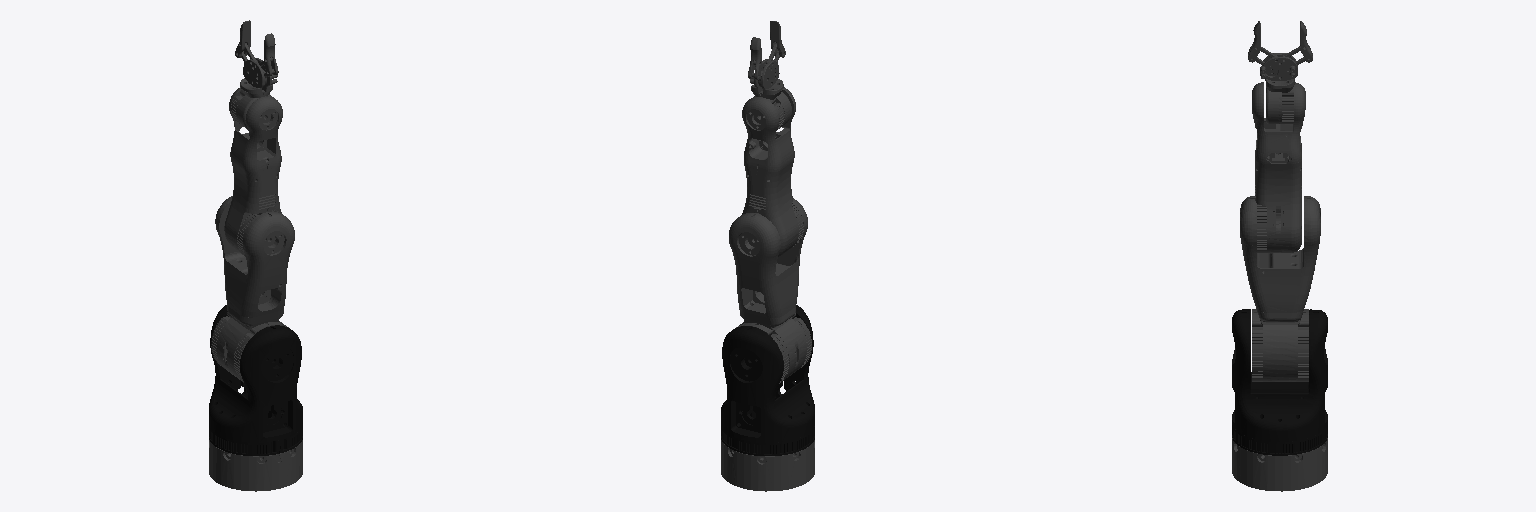
robot.urdf — full_urdf:
<?xml version="1.0" encoding="utf-8"?>
<!-- This URDF was automatically created by SolidWorks to URDF Exporter! Originally created by [author] ([email redacted]) 
     Commit Version: 1.6.0-1-g15f4949  Build Version: 1.6.7594.29634
     For more information, please see http://wiki.ros.org/sw_urdf_exporter -->
<robot
  name="full_urdf">
  <link
    name="link1">
    <inertial>
      <origin
        xyz="4.4410586445387E-05 1.45177986581313E-05 0.037113179191386"
        rpy="0 0 0" />
      <mass
        value="0.635779498961267" />
      <inertia
        ixx="0.00151123987386836"
        ixy="1.1011358416876E-09"
        ixz="1.32447037777926E-06"
        iyy="0.00151196559273963"
        iyz="-1.56524080812258E-07"
        izz="0.00261737665265417" />
    </inertial>
    <visual>
      <origin
        xyz="0 0 0"
        rpy="0 0 0" />
      <geometry>
        <mesh
          filename="package://tg_rviz/link1.STL" />
      </geometry>
      <material
        name="">
        <color
          rgba="0.294117647058824 0.294117647058824 0.294117647058824 1" />
      </material>
    </visual>
    <collision>
      <origin
        xyz="0 0 0"
        rpy="0 0 0" />
      <geometry>
        <mesh
          filename="package://tg_rviz/link1.STL" />
      </geometry>
    </collision>
  </link>
  <link
    name="link2">
    <inertial>
      <origin
        xyz="7.95491834643947E-05 9.19921252534872E-05 0.0829570557972189"
        rpy="0 0 0" />
      <mass
        value="1.60032877977738" />
      <inertia
        ixx="0.00838854576696447"
        ixy="-3.8941138011219E-06"
        ixz="-3.49984649445926E-06"
        iyy="0.0068511133901636"
        iyz="-4.37926052663677E-07"
        izz="0.00630839131304142" />
    </inertial>
    <visual>
      <origin
        xyz="0 0 0"
        rpy="0 0 0" />
      <geometry>
        <mesh
          filename="package://tg_rviz/link2.STL" />
      </geometry>
      <material
        name="">
        <color
          rgba="0.0980392156862745 0.0980392156862745 0.0980392156862745 1" />
      </material>
    </visual>
    <collision>
      <origin
        xyz="0 0 0"
        rpy="0 0 0" />
      <geometry>
        <mesh
          filename="package://tg_rviz/link2.STL" />
      </geometry>
    </collision>
  </link>
  <joint
    name="joint1"
    type="continuous">
    <origin
      xyz="7.7842E-05 0 0.065"
      rpy="0 0 0" />
    <parent
      link="link1" />
    <child
      link="link2" />
    <axis
      xyz="-0.0011976 0 -1" />
  </joint>
  <link
    name="link3">
    <inertial>
      <origin
        xyz="-0.000376995105643763 0.00114200217520197 0.0757659063786574"
        rpy="0 0 0" />
      <mass
        value="1.79175976433997" />
      <inertia
        ixx="0.00493022759174285"
        ixy="6.21557128134879E-07"
        ixz="1.3870513938658E-05"
        iyy="0.00483872598023994"
        iyz="9.58679544162898E-06"
        izz="0.0028490373546818" />
    </inertial>
    <visual>
      <origin
        xyz="0 0 0"
        rpy="0 0 0" />
      <geometry>
        <mesh
          filename="package://tg_rviz/link3.STL" />
      </geometry>
      <material
        name="">
        <color
          rgba="0.294117647058824 0.294117647058824 0.294117647058824 1" />
      </material>
    </visual>
    <collision>
      <origin
        xyz="0 0 0"
        rpy="0 0 0" />
      <geometry>
        <mesh
          filename="package://tg_rviz/link3.STL" />
      </geometry>
    </collision>
  </link>
  <joint
    name="joint2"
    type="continuous">
    <origin
      xyz="0.0001982 0 0.1655"
      rpy="0 0 0" />
    <parent
      link="link2" />
    <child
      link="link3" />
    <axis
      xyz="-0.002626 -1 0" />
  </joint>
  <link
    name="link4">
    <inertial>
      <origin
        xyz="-7.18441758113808E-05 -0.00157534217819362 0.0379704140353342"
        rpy="0 0 0" />
      <mass
        value="0.656516302979665" />
      <inertia
        ixx="0.00192392283265257"
        ixy="5.9133568135509E-08"
        ixz="-1.12401802567594E-06"
        iyy="0.0019650280022993"
        iyz="-9.14034023346133E-06"
        izz="0.000660627878577304" />
    </inertial>
    <visual>
      <origin
        xyz="0 0 0"
        rpy="0 0 0" />
      <geometry>
        <mesh
          filename="package://tg_rviz/link4.STL" />
      </geometry>
      <material
        name="">
        <color
          rgba="0.294117647058824 0.294117647058824 0.294117647058824 1" />
      </material>
    </visual>
    <collision>
      <origin
        xyz="0 0 0"
        rpy="0 0 0" />
      <geometry>
        <mesh
          filename="package://tg_rviz/link4.STL" />
      </geometry>
    </collision>
  </link>
  <joint
    name="joint3"
    type="continuous">
    <origin
      xyz="-0.0013202 0 0.22112"
      rpy="0 0 0" />
    <parent
      link="link3" />
    <child
      link="link4" />
    <axis
      xyz="0.002626 1 0" />
  </joint>
  <link
    name="link5">
    <inertial>
      <origin
        xyz="-0.000888735907033089 -4.04206613251537E-05 0.0561880015809195"
        rpy="0 0 0" />
      <mass
        value="0.260588327612912" />
      <inertia
        ixx="0.000589208824949663"
        ixy="-3.97270895090325E-07"
        ixz="-1.01413152943679E-05"
        iyy="0.000504052153281017"
        iyz="6.77605671032426E-07"
        izz="0.000287636586754905" />
    </inertial>
    <visual>
      <origin
        xyz="0 0 0"
        rpy="0 0 0" />
      <geometry>
        <mesh
          filename="package://tg_rviz/link5.STL" />
      </geometry>
      <material
        name="">
        <color
          rgba="0.294117647058824 0.294117647058824 0.294117647058824 1" />
      </material>
    </visual>
    <collision>
      <origin
        xyz="0 0 0"
        rpy="0 0 0" />
      <geometry>
        <mesh
          filename="package://tg_rviz/link5.STL" />
      </geometry>
    </collision>
  </link>
  <joint
    name="joint4"
    type="continuous">
    <origin
      xyz="4.2438E-05 -0.0020038 0.123"
      rpy="0 0 0" />
    <parent
      link="link4" />
    <child
      link="link5" />
    <axis
      xyz="0.00038783 0 1" />
  </joint>
  <link
    name="link6">
    <inertial>
      <origin
        xyz="0.000165286313128787 0.00160938604622973 0.00387295294262002"
        rpy="0 0 0" />
      <mass
        value="0.158570003124453" />
      <inertia
        ixx="6.80599721569477E-05"
        ixy="9.47555358098318E-08"
        ixz="-6.03763413561723E-07"
        iyy="0.000106554395763305"
        iyz="1.77658172708233E-07"
        izz="5.36086056485322E-05" />
    </inertial>
    <visual>
      <origin
        xyz="0 0 0"
        rpy="0 0 0" />
      <geometry>
        <mesh
          filename="package://tg_rviz/link6.STL" />
      </geometry>
      <material
        name="">
        <color
          rgba="0.294117647058824 0.294117647058824 0.294117647058824 1" />
      </material>
    </visual>
    <collision>
      <origin
        xyz="0 0 0"
        rpy="0 0 0" />
      <geometry>
        <mesh
          filename="package://tg_rviz/link6.STL" />
      </geometry>
    </collision>
  </link>
  <joint
    name="joint5"
    type="continuous">
    <origin
      xyz="3.859E-05 0 0.099504"
      rpy="0 0 0" />
    <parent
      link="link5" />
    <child
      link="link6" />
    <axis
      xyz="-0.0022684 -1 0" />
  </joint>
  <link
    name="gripper">
    <inertial>
      <origin
        xyz="0.00154975285848991 0.000579442542277146 0.0279238612772337"
        rpy="0 0 0" />
      <mass
        value="0.0659147929415106" />
      <inertia
        ixx="2.54420737196308E-05"
        ixy="5.7960790564021E-07"
        ixz="-6.38272338894767E-07"
        iyy="1.64104171153709E-05"
        iyz="-8.1574540723306E-08"
        izz="1.21115605173781E-05" />
    </inertial>
    <visual>
      <origin
        xyz="0 0 0"
        rpy="0 0 0" />
      <geometry>
        <mesh
          filename="package://tg_rviz/gripper.STL" />
      </geometry>
      <material
        name="">
        <color
          rgba="0.294117647058824 0.294117647058824 0.294117647058824 1" />
      </material>
    </visual>
    <collision>
      <origin
        xyz="0 0 0"
        rpy="0 0 0" />
      <geometry>
        <mesh
          filename="package://tg_rviz/gripper.STL" />
      </geometry>
    </collision>
  </link>
  <joint
    name="fixed1"
    type="fixed">
    <origin
      xyz="0.0020695 0.0018182 0.051959"
      rpy="0 0 0" />
    <parent
      link="link6" />
    <child
      link="gripper" />
    <axis
      xyz="0 0 0" />
  </joint>
</robot>

--- What the picture shows (computed from the rendered views, not written in the file) ---
3 views of the same robot in one strip: view 1: azimuth 30°, elevation 25°; view 2: azimuth 150°, elevation 25°; view 3: azimuth 270°, elevation 25° (orthographic).
Robot: full_urdf — 7 links, 6 joints (5 continuous, 1 fixed); root link link1; default pose: all joints at 0.
Visible links, largest first — view 1: link2, link3, link1, link5, link4, gripper, link6; view 2: link2, link3, link1, link5, link4, gripper, link6; view 3: link3, link2, link4, link1, link5, gripper, link6.
Boxes of the visible links, x1,y1,x2,y2 form: link2: (209,305,302,455); link3: (211,196,294,382); link1: (209,440,302,491); link5: (229,88,282,171); link4: (224,161,281,255); gripper: (235,20,278,93); link6: (231,87,273,129); link2: (721,305,814,455); link3: (729,198,811,383); link1: (721,440,814,491); link5: (742,87,795,171); link4: (742,161,803,256); gripper: (748,21,785,94); link6: (753,88,791,129); link3: (1240,196,1320,381); link2: (1232,309,1327,455); link4: (1255,154,1301,252); link1: (1232,438,1327,491); link5: (1252,82,1305,163); gripper: (1248,21,1312,88); link6: (1266,86,1293,123).
Bounding box of the posed robot: 0.1601 × 0.16 × 0.8274 m (x, y, z).
7 mesh visuals loaded from 7 distinct referenced files (7 binary STL).
